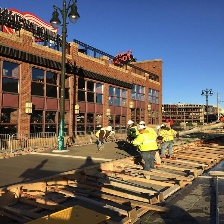person: (138, 125, 158, 173), (159, 123, 175, 157)
